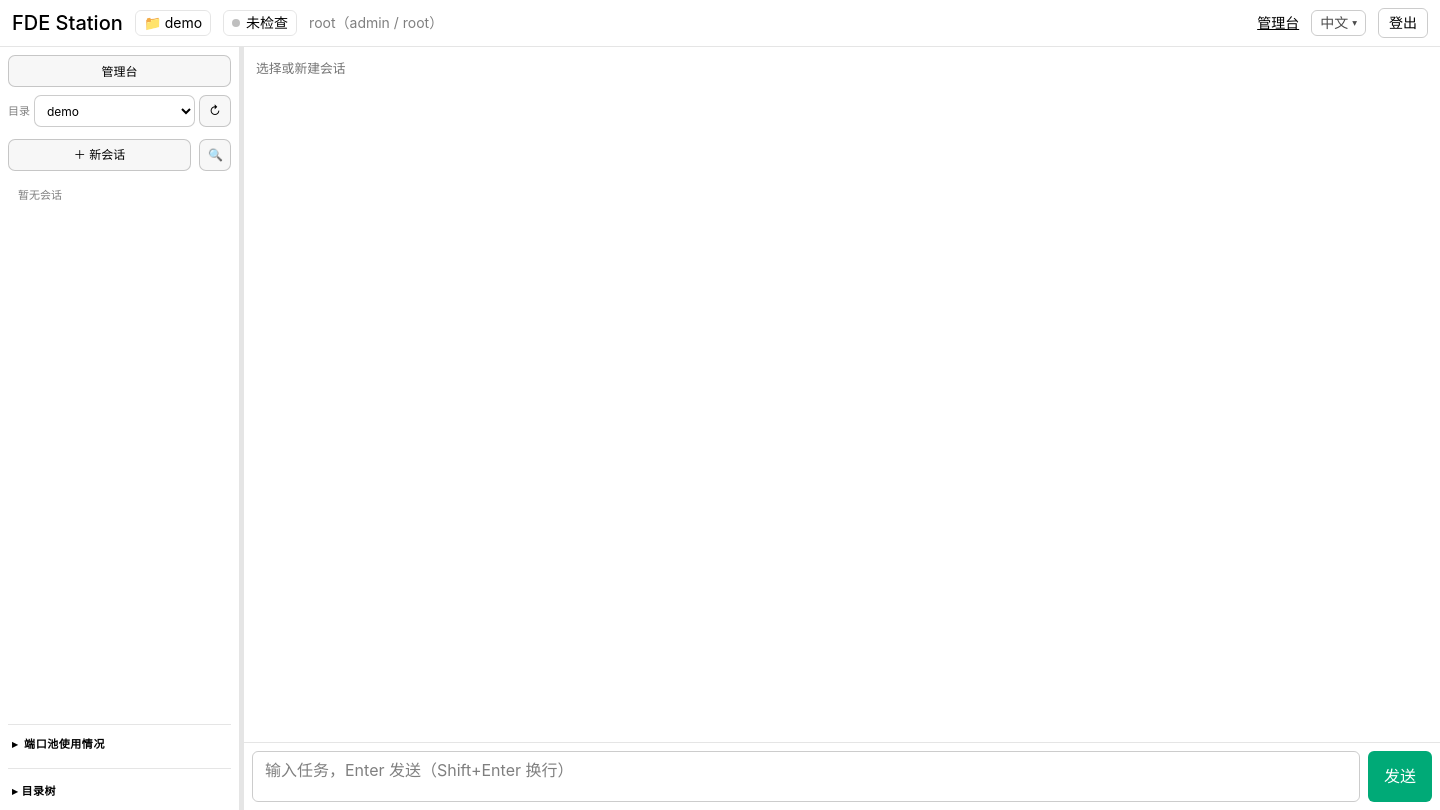
工作台 · 预览端口区块 › 列表为空（有工位但平台尚未分段）⇒ 折叠条不带条数，展开走空态而不是空白
The image size is (1440, 810).
Check: the element with test id "preview-ports-toggle" does not show "（"
Click the button with test id "preview-ports-toggle" at (120, 744), box [8,733,231,756]
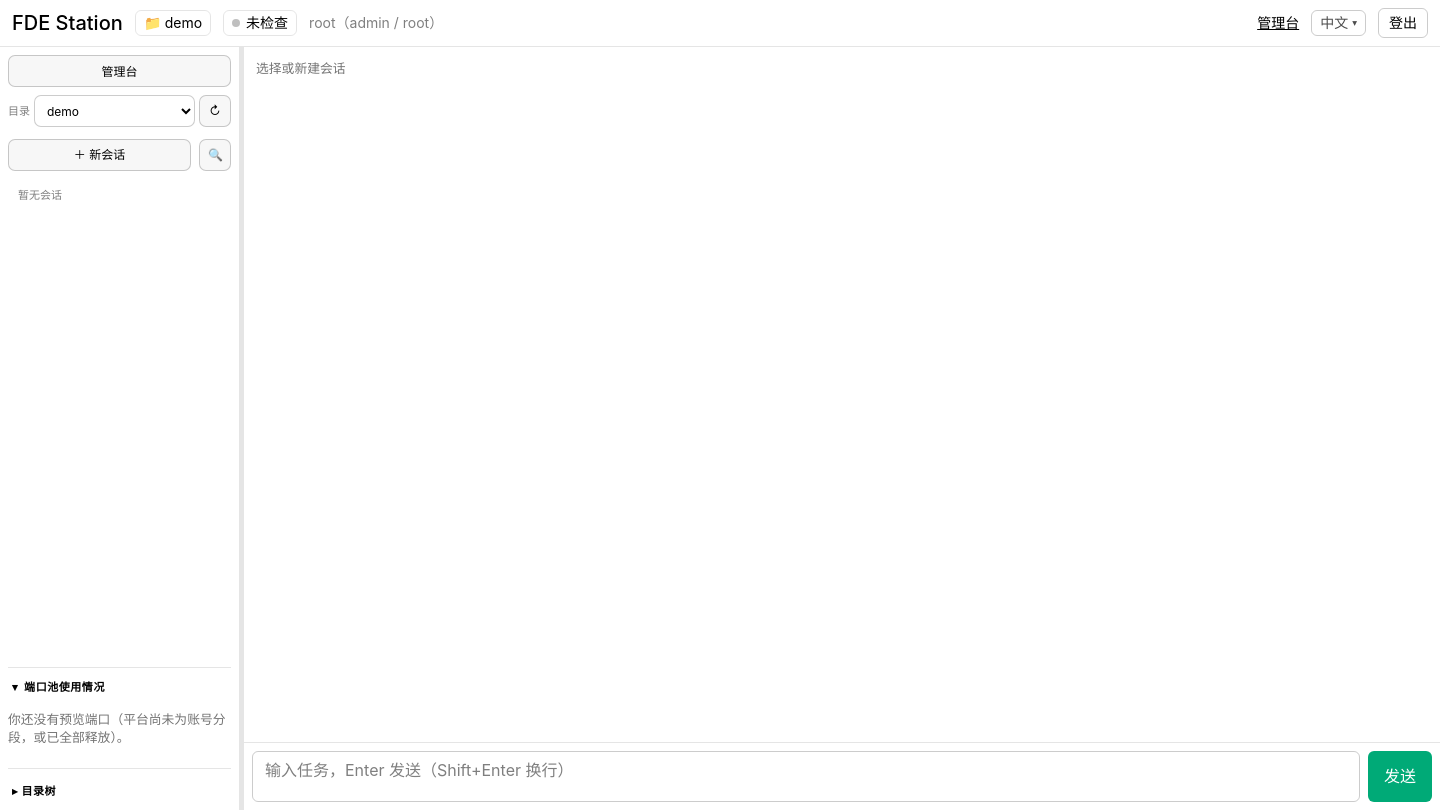
Check: the message with test id "preview-ports-empty" shows "你还没有预览端口", box [8,712,226,745]
